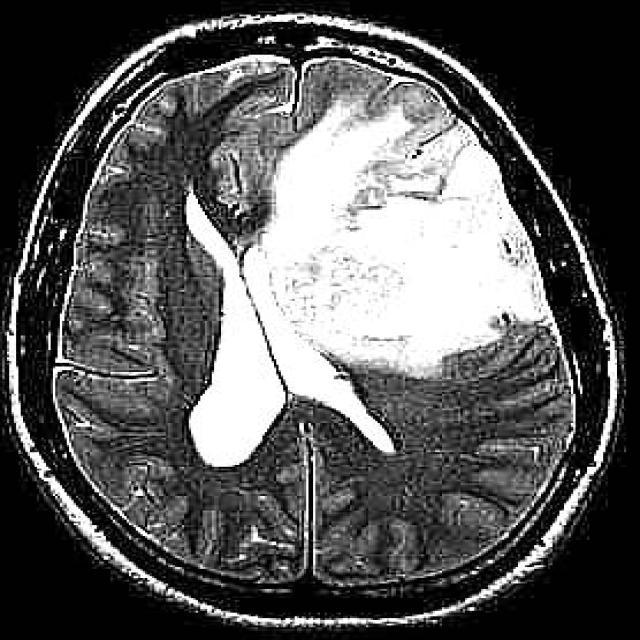brain tumor: (260, 106, 548, 381)
